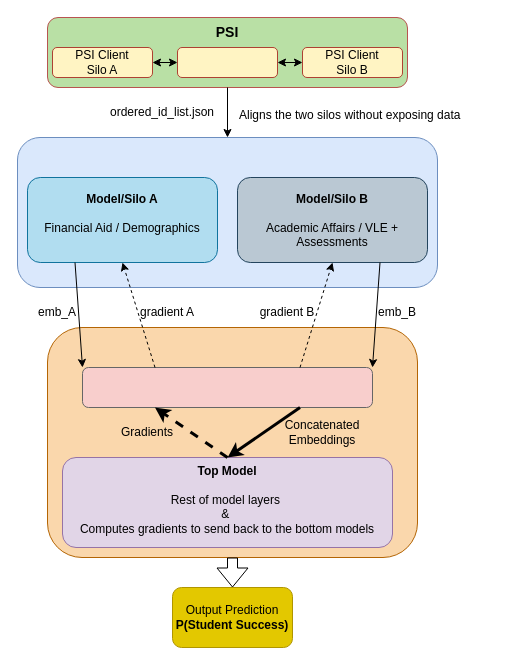
The diagram is 505 pixels wide and 665 high, and some of its shapes have lost their labels. Here are the shapes that lost their labels. From the top down, the box of each, then its label:
(176, 46, 278, 78): PSI Server
(16, 136, 438, 288): Bottom Models (SplitNN) Client Side
(82, 366, 372, 408): Cut Layer Concatenates Embeddings
(46, 326, 418, 558): Flower Server
